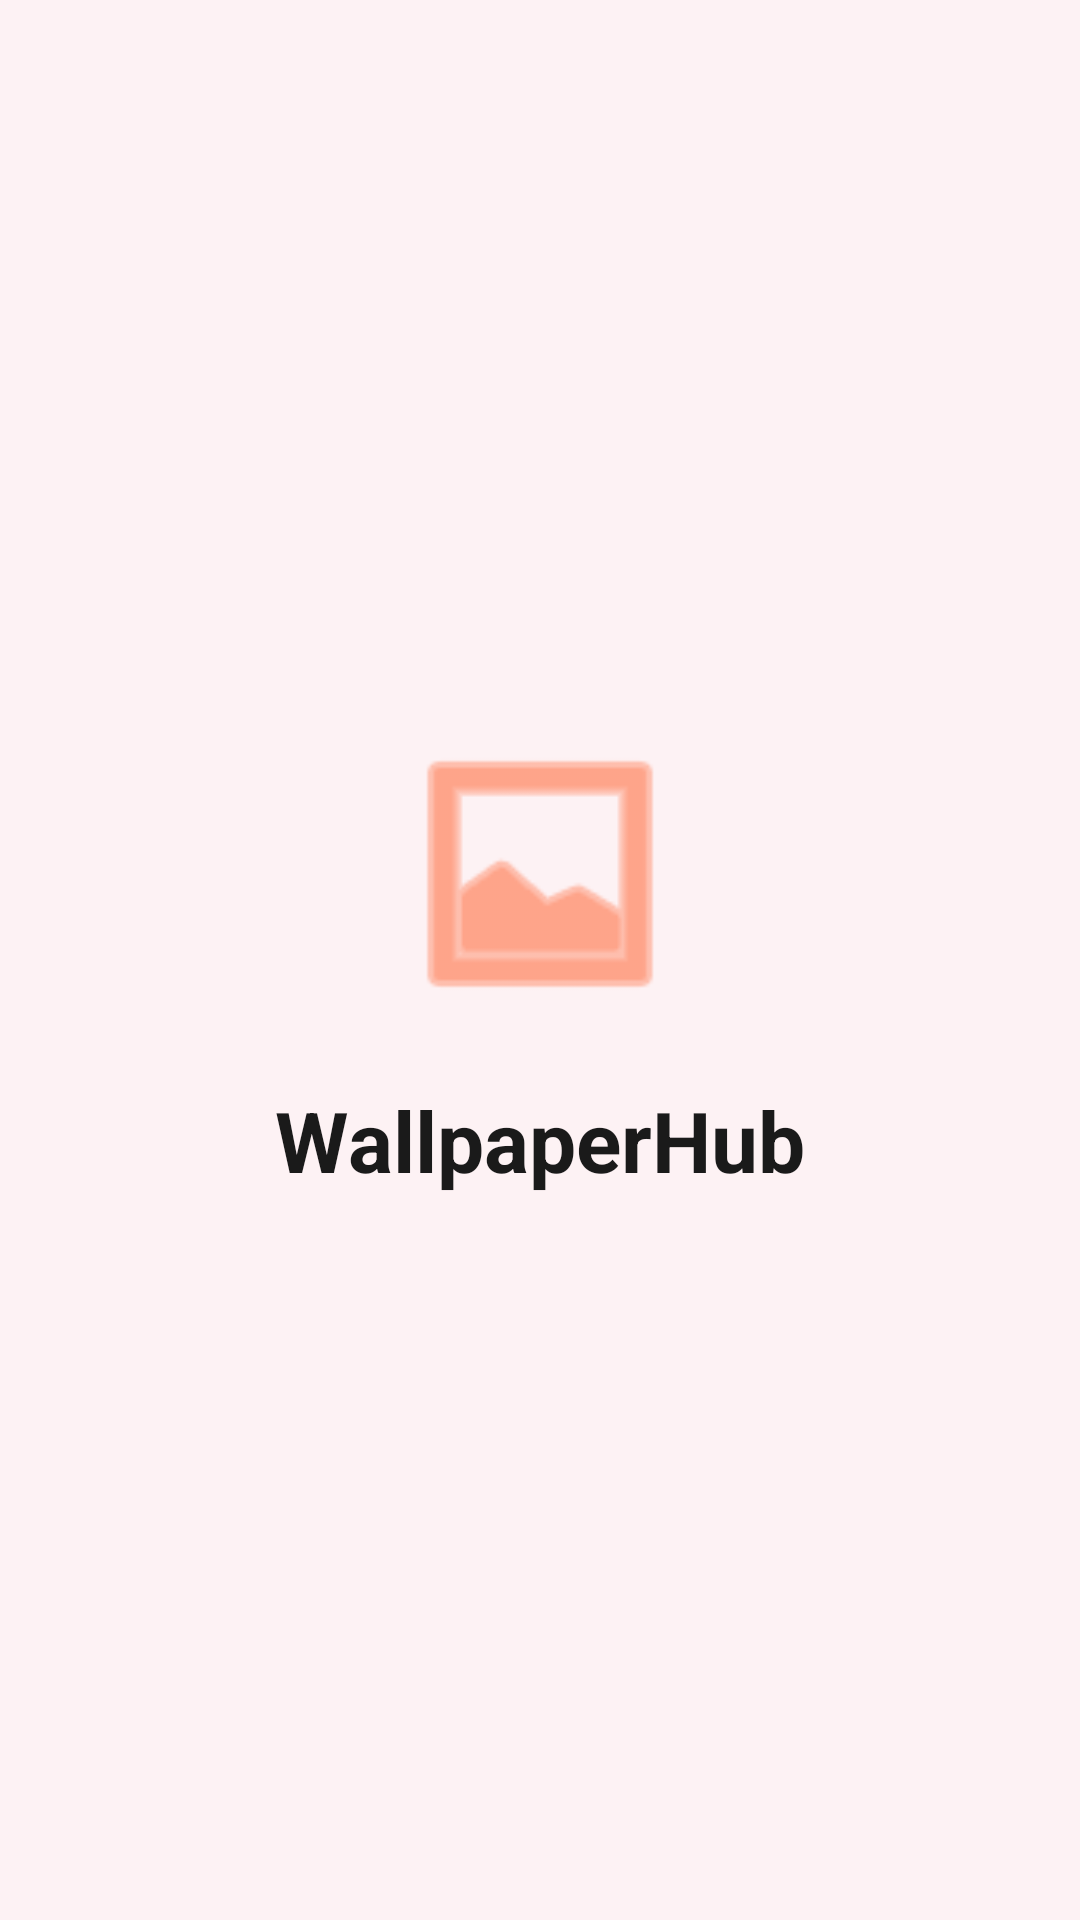

Icon click points for this 1080x1920 phone screenshot, format [x,y]:
gallery: [540,874]
